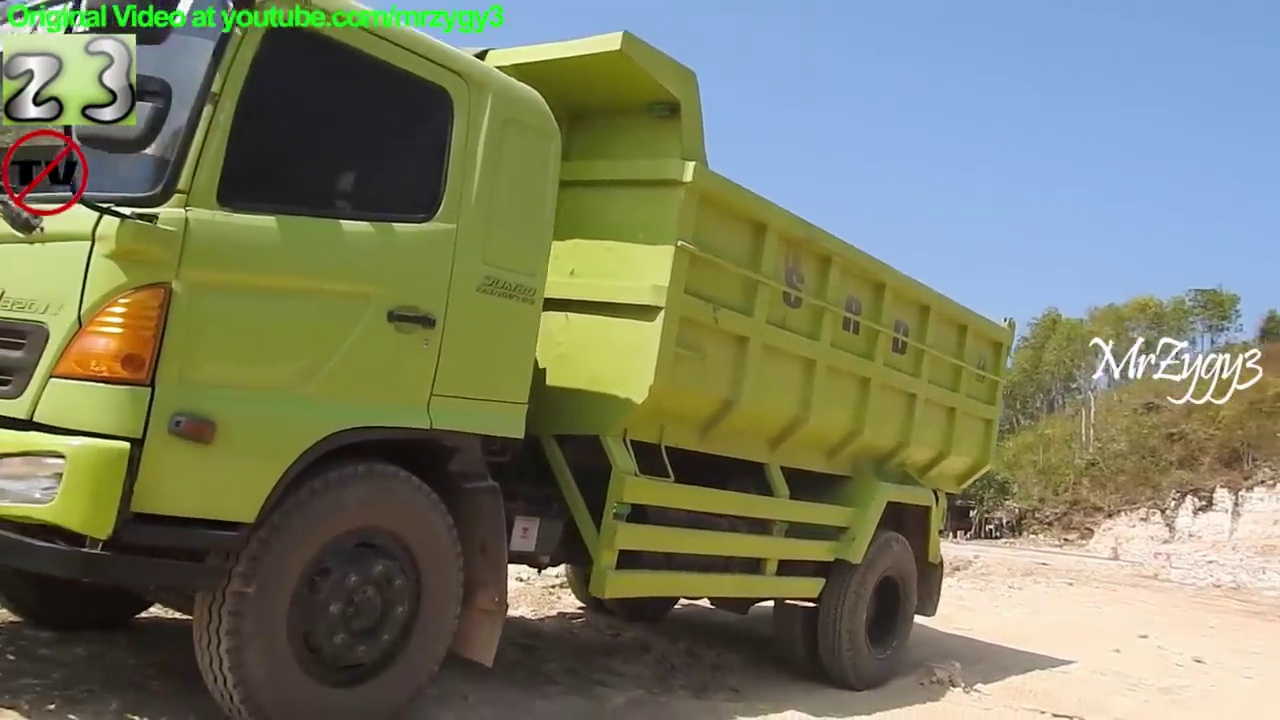truck: (1, 1, 1019, 720)
